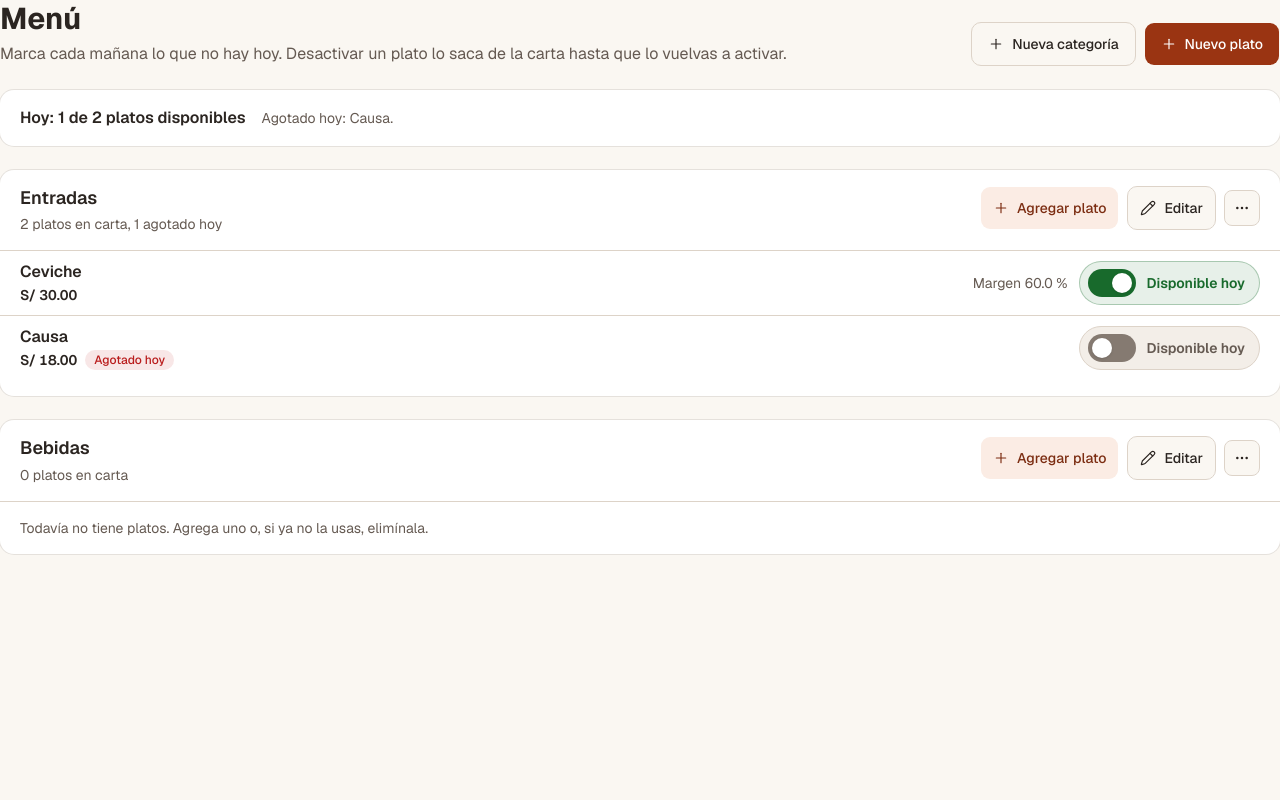
Test: MenuView: la carta › un plato sin receta ofrece agregarla desde su ficha
Click the button named "Ver la ficha de Causa". click: coordinates (544, 348)
box: [16,316,1072,380]
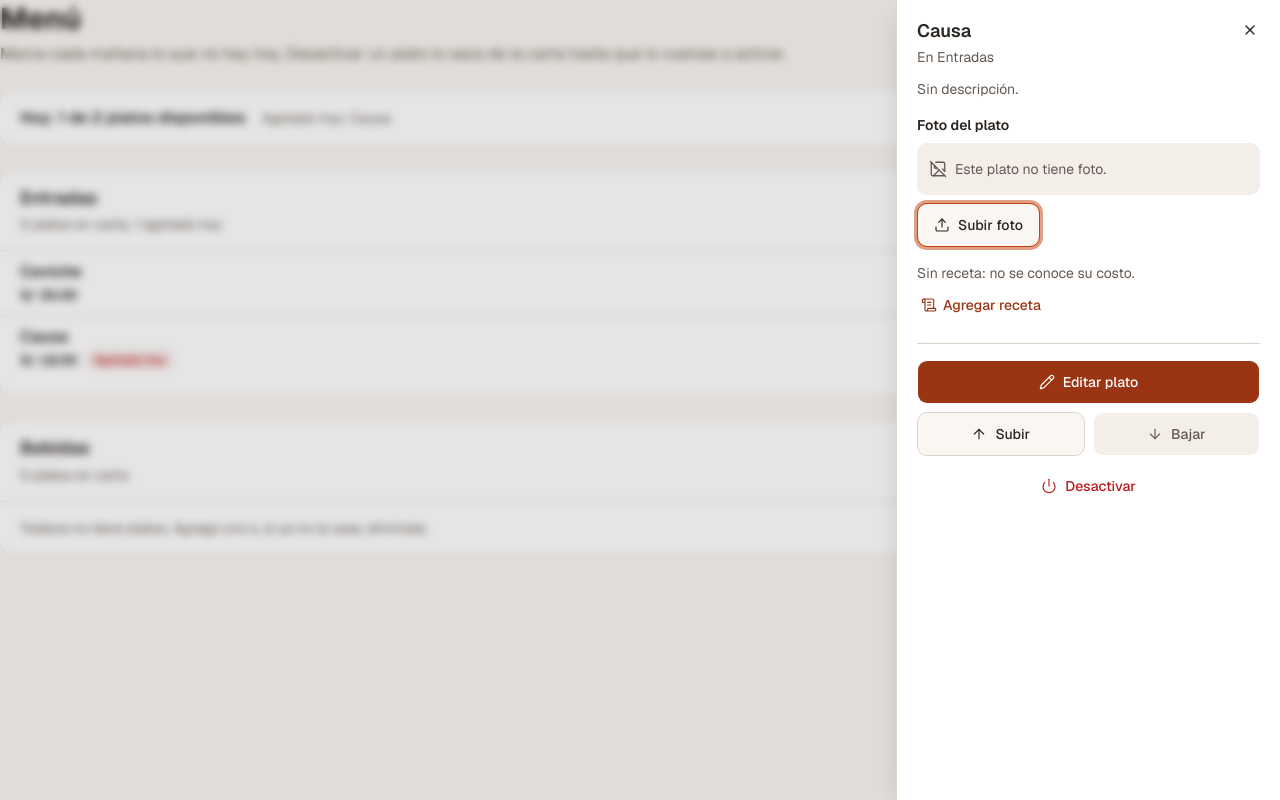
Check: the link with aria-label "Agregar la receta de Causa" is shown, box [921,296,1041,314]
